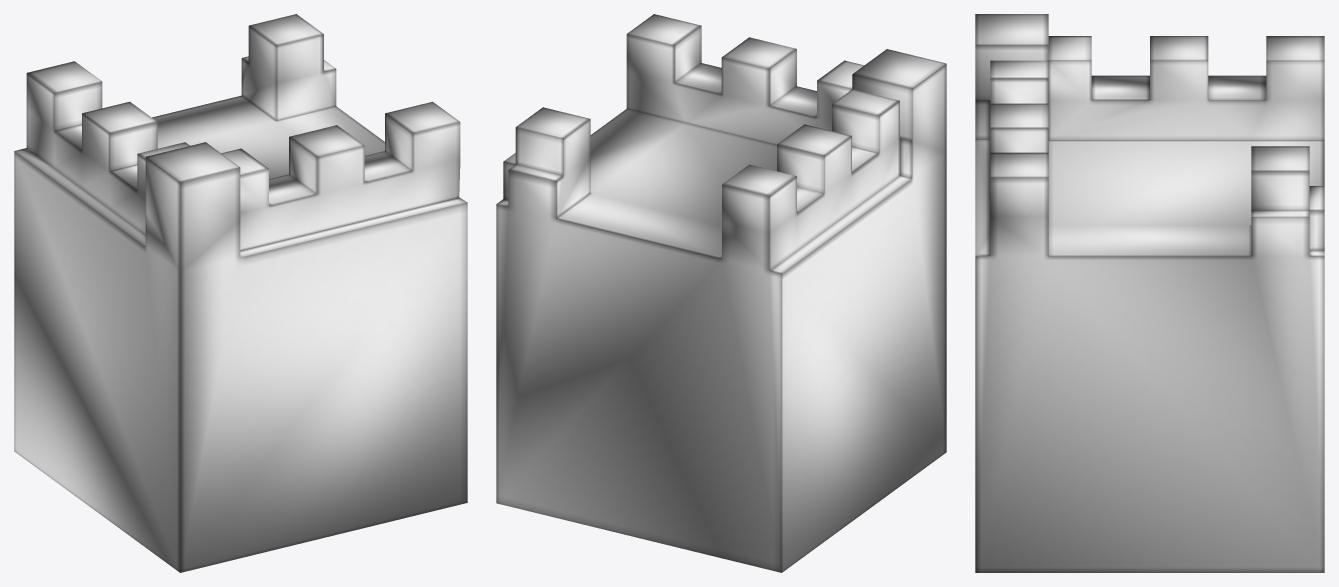
The model's file is Wall-04.fbx.
The picture shows the model from 3 angles, left to right: view 1: azimuth 30°, elevation 25°; view 2: azimuth 150°, elevation 25°; view 3: azimuth 270°, elevation 25°; orthographic projection. The views are drawn at different scales.
Visible parts, largest first — view 1: Wall-04; view 2: Wall-04; view 3: Wall-04.
Part boxes in pixels (bbox=[...]): Wall-04: bbox=[14, 14, 467, 572]; Wall-04: bbox=[496, 14, 946, 572]; Wall-04: bbox=[975, 14, 1324, 572].
Size of the model in its own units: 1 by 1.3 by 1.
